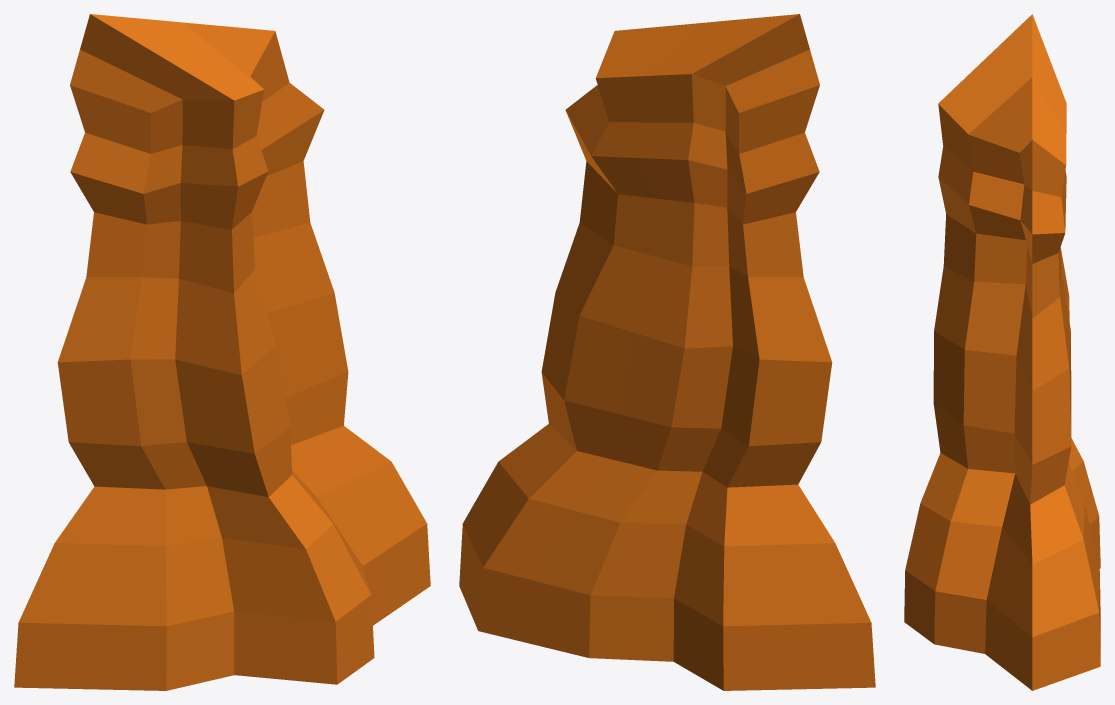
The model's file is Rock_Tower.fbx.
3 renders of one model, left to right at view 1: azimuth 30°, elevation 25°; view 2: azimuth 150°, elevation 25°; view 3: azimuth 270°, elevation 25°, orthographic. The views are drawn at different scales.
Parts seen in each view (by area): view 1: Cube; view 2: Cube; view 3: Cube.
Part boxes in pixels (<box>): Cube: <box>14,14,430,690</box>; Cube: <box>459,14,875,690</box>; Cube: <box>904,14,1100,690</box>.
Size of the model in its own units: 894 by 1344 by 443.
